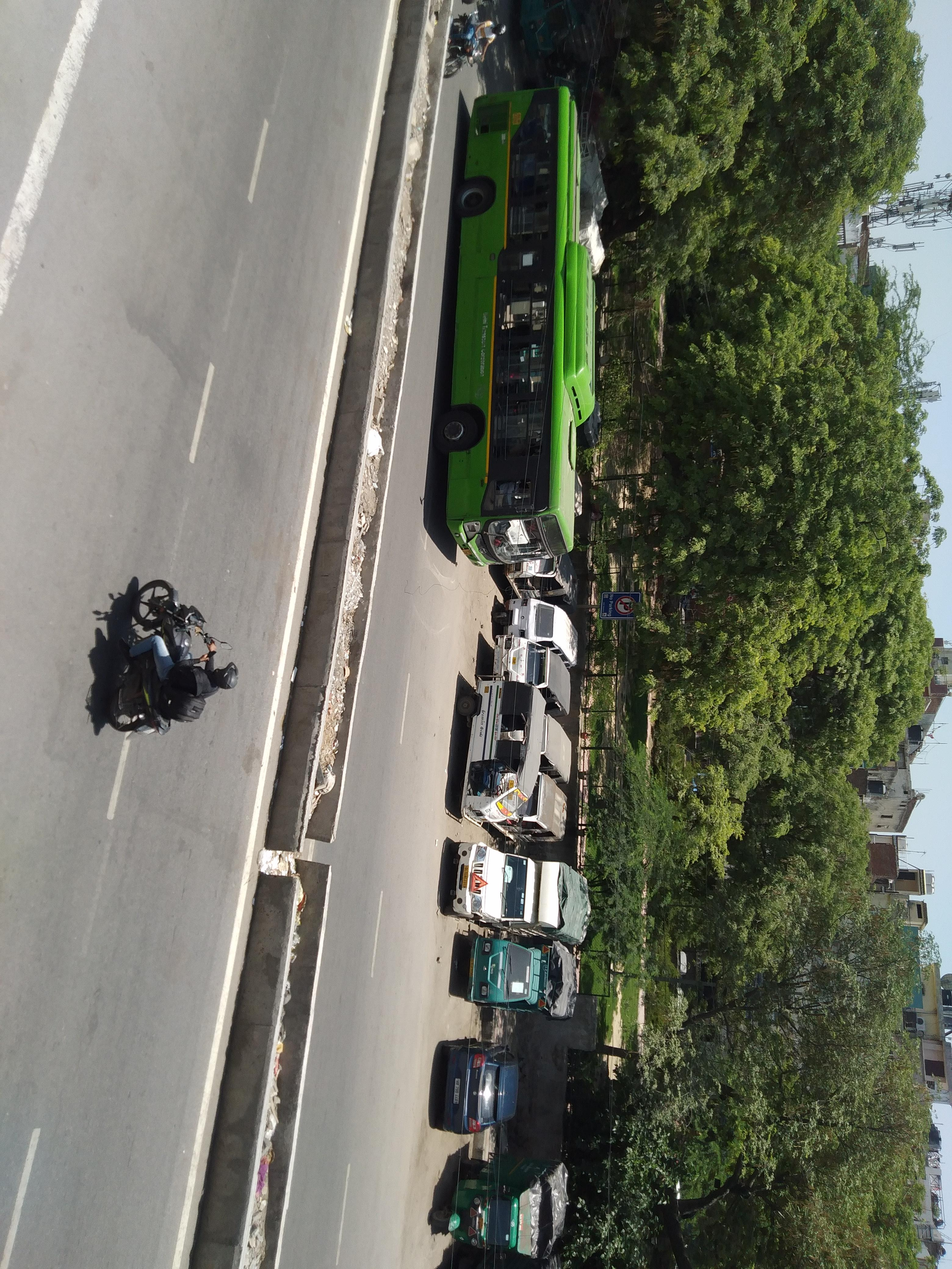Non-emergency: (462, 8, 613, 662)
